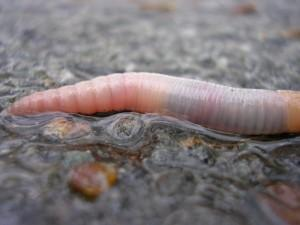earthworms: (13, 26, 300, 155)
